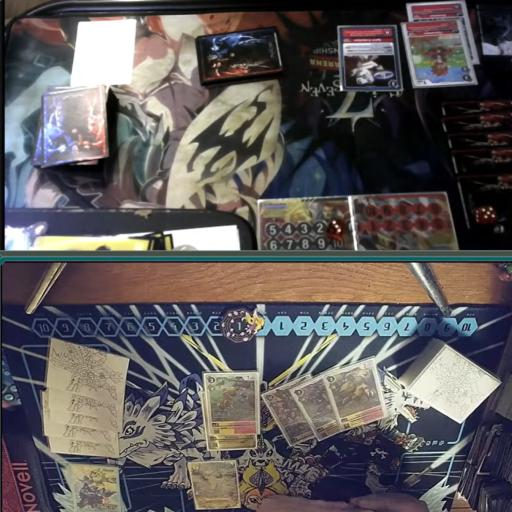card: (399, 19, 476, 93), (324, 348, 390, 432), (71, 18, 136, 87), (200, 367, 265, 436), (337, 24, 399, 92), (262, 372, 318, 446), (289, 370, 338, 441), (184, 454, 244, 511), (404, 1, 472, 25), (204, 436, 262, 452)
